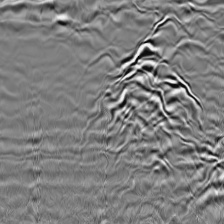cavities: (105, 36, 202, 154)
